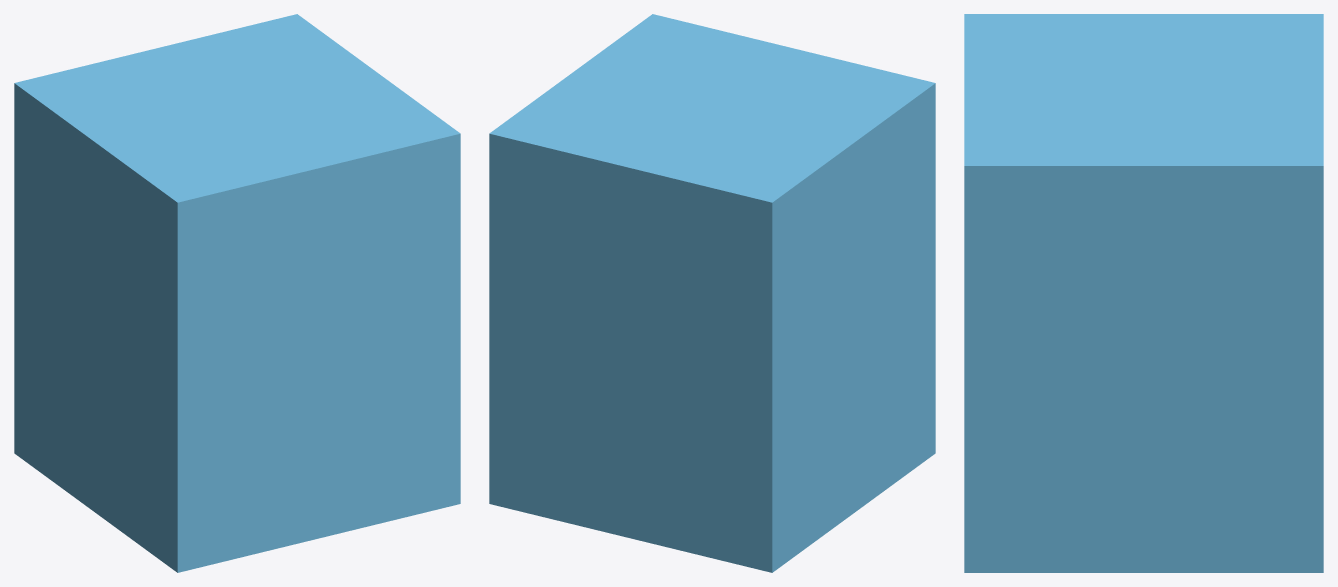
Rendered from meshopt_exact_morph_cube.glb.
3 views of the same model, side by side, from view 1: azimuth 30°, elevation 25°; view 2: azimuth 150°, elevation 25°; view 3: azimuth 270°, elevation 25° (orthographic). The views are drawn at different scales.
Parts seen in each view (by area): view 1: cube; view 2: cube; view 3: cube.
Part boxes in pixels (bbox=[...]): cube: bbox=[14, 14, 460, 572]; cube: bbox=[489, 14, 935, 572]; cube: bbox=[964, 14, 1323, 572].
Bounding box in the file's own units: 1 × 1.25 × 1.
